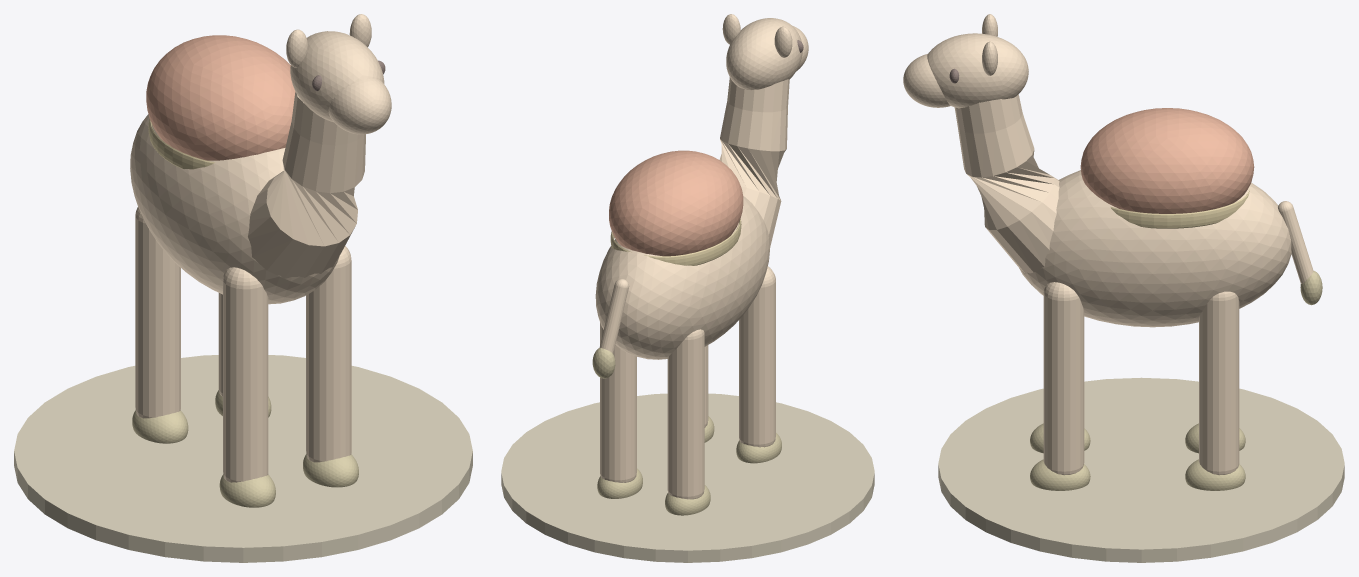
The model's file is camel.glb.
3 views of the same model, side by side, from view 1: azimuth 30°, elevation 25°; view 2: azimuth 150°, elevation 25°; view 3: azimuth 270°, elevation 25° (orthographic). The views are drawn at different scales.
Parts seen in each view (by area): view 1: Base, Body, Saddle, Neck, Leg_FR, Leg_FL, Leg_BR, Head, Muzzle, Hoof_FR, Hoof_BR, Hoof_FL (+2 smaller); view 2: Base, Body, Saddle, Neck, Leg_BR, Leg_FR, Leg_BL, Head, Saddle_Trim, Tail, Hoof_BR, Hoof_FR (+2 smaller); view 3: Base, Body, Saddle, Neck, Leg_FL, Leg_BL, Head, Saddle_Trim, Muzzle, Tail, Hoof_FL, Hoof_BL (+1 smaller).
Part boxes in pixels (left/top/right/bottom): Base: left=14, top=355, right=472, bottom=562; Body: left=130, top=114, right=339, bottom=304; Saddle: left=146, top=35, right=295, bottom=160; Neck: left=248, top=92, right=365, bottom=278; Leg_FR: left=223, top=267, right=268, bottom=482; Leg_FL: left=306, top=245, right=351, bottom=462; Leg_BR: left=135, top=207, right=180, bottom=418; Head: left=290, top=31, right=384, bottom=122; Muzzle: left=328, top=78, right=391, bottom=134; Hoof_FR: left=219, top=474, right=275, bottom=507; Hoof_BR: left=132, top=410, right=188, bottom=443; Hoof_FL: left=303, top=454, right=358, bottom=487; Base: left=501, top=393, right=874, bottom=562; Body: left=595, top=196, right=769, bottom=359; Saddle: left=609, top=150, right=743, bottom=256; Neck: left=719, top=77, right=789, bottom=247; Leg_BR: left=667, top=329, right=704, bottom=499; Leg_FR: left=739, top=266, right=775, bottom=447; Leg_BL: left=600, top=322, right=636, bottom=482; Head: left=726, top=18, right=802, bottom=90; Saddle_Trim: left=610, top=219, right=741, bottom=265; Tail: left=599, top=278, right=629, bottom=353; Hoof_BR: left=665, top=485, right=710, bottom=515; Hoof_FR: left=736, top=433, right=781, bottom=463; Base: left=938, top=377, right=1344, bottom=562; Body: left=1018, top=170, right=1291, bottom=327; Saddle: left=1080, top=108, right=1254, bottom=213; Neck: left=954, top=94, right=1059, bottom=273; Leg_FL: left=1043, top=282, right=1084, bottom=475; Leg_BL: left=1199, top=291, right=1239, bottom=475; Head: left=927, top=33, right=1028, bottom=108; Saddle_Trim: left=1110, top=190, right=1249, bottom=228; Muzzle: left=903, top=54, right=950, bottom=107; Tail: left=1278, top=201, right=1313, bottom=283; Hoof_FL: left=1030, top=459, right=1090, bottom=490; Hoof_BL: left=1185, top=459, right=1245, bottom=490.
Bounding box in the file's own units: 1.1 × 1.34 × 1.2.
